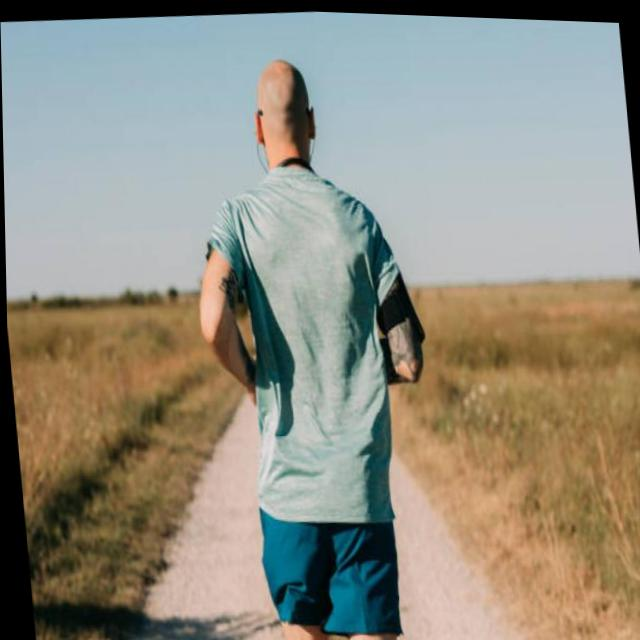no helmet: (225, 29, 333, 203)
